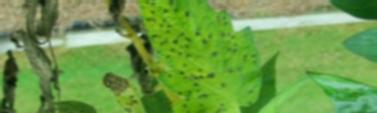Tomato Septoria leaf spot: (129, 0, 264, 113)
